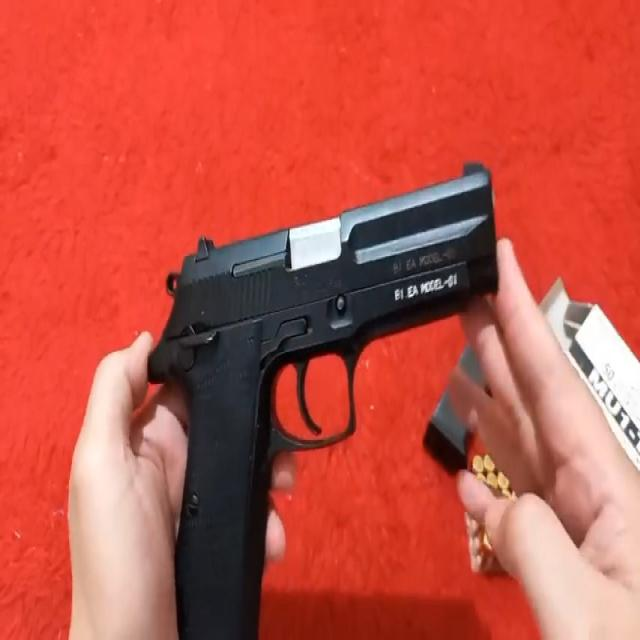handgun: (160, 142, 511, 640)
